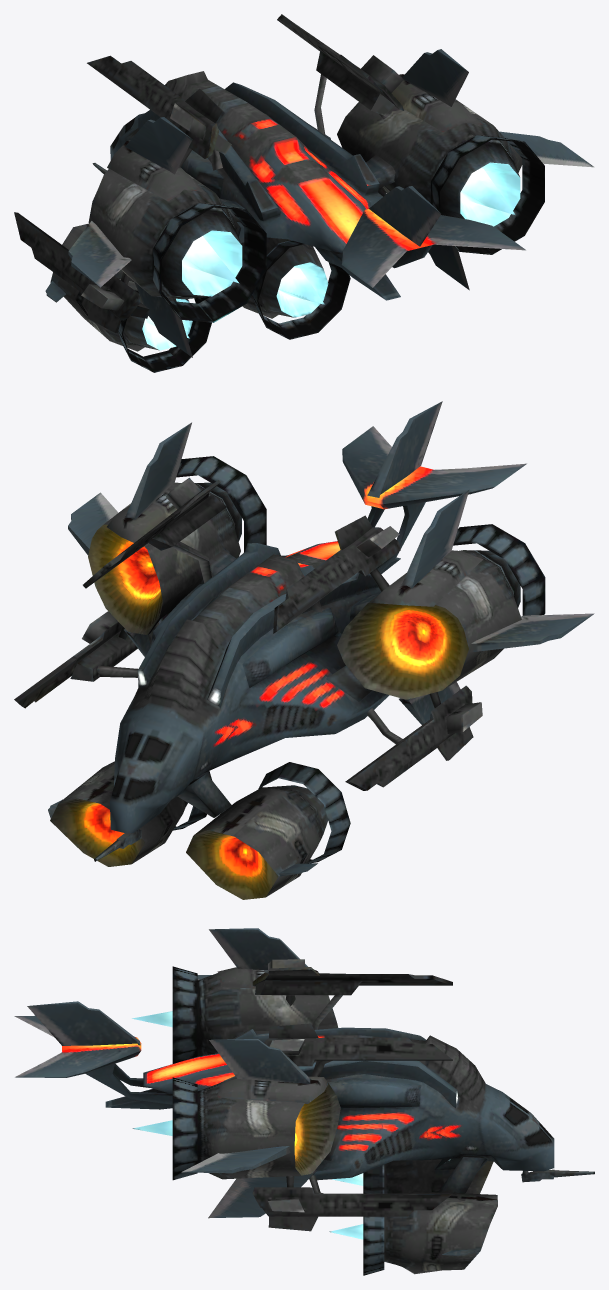
Rendered from streunerr-boss.glb.
3 views of the same model, one above another, from view 1: azimuth 30°, elevation 25°; view 2: azimuth 150°, elevation 25°; view 3: azimuth 270°, elevation 25° (orthographic). The views are drawn at different scales.
Visible parts, largest first — view 1: streunerr_boss; view 2: streunerr_boss; view 3: streunerr_boss.
Boxes of the visible parts, <box> form: streunerr_boss: <box>14,14,594,372</box>; streunerr_boss: <box>14,401,594,899</box>; streunerr_boss: <box>14,928,594,1275</box>.
Size of the model in its own units: 127 by 79.01 by 158.
Materials: 1 (1 with a texture image).
